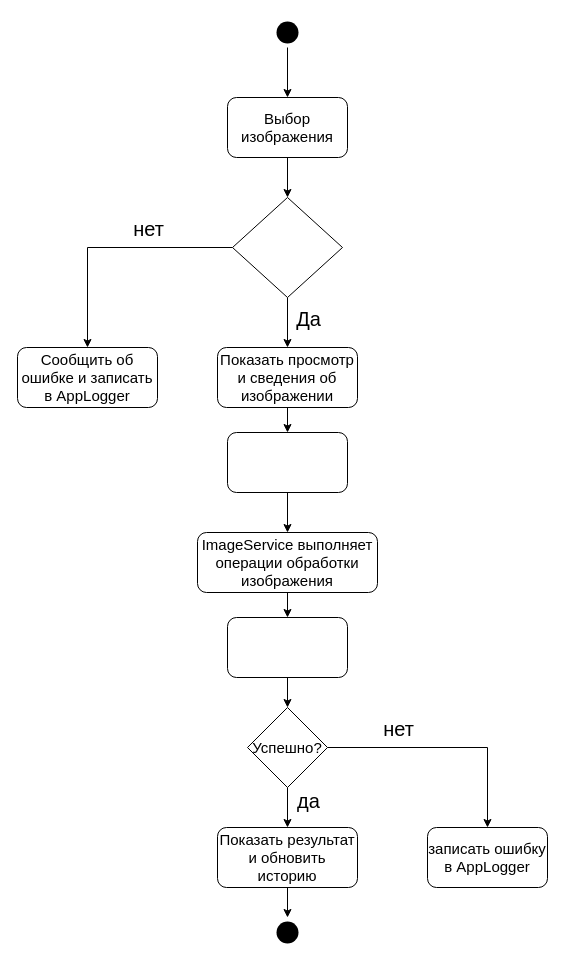
This 565x964 diagram has some shape labels left out. The box of each missing label's shape, as (x1, y1, x2, y2) in pixels:
Задать параметры изображения: (226, 432, 348, 492)
Проверить результат обрботки: (226, 616, 348, 678)
файл доступен и коректен?: (232, 196, 342, 298)
